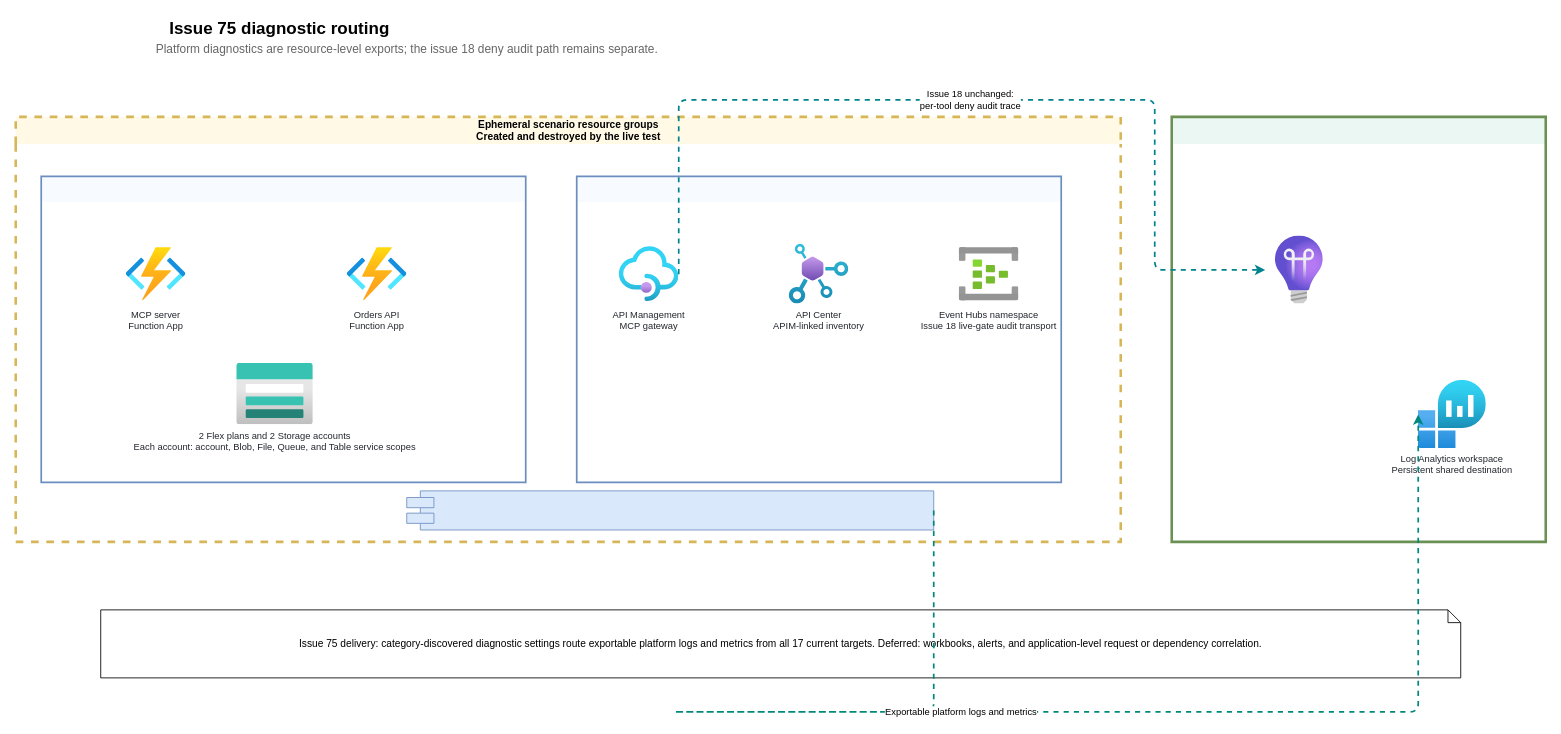
This 1561x734 diagram has some shape labels left out. Here are the shapes that lost their labels. From the top down, the box of each, then its label:
(1265, 235, 1333, 303): Workspace-based Application Insights Persistent Issue 18 audit sink
(40, 175, 526, 483): S1 resource group Two Function Apps with their plans and storage
(575, 175, 1062, 483): S2 resource group Gateway, inventory, and live-gate audit transport
(1170, 115, 1547, 543): Persistent out-of-band observability resource group Not destroyed with S1 or S2
(406, 490, 934, 530): Issue 75 diagnostic settings All 17 current resource-level targets
